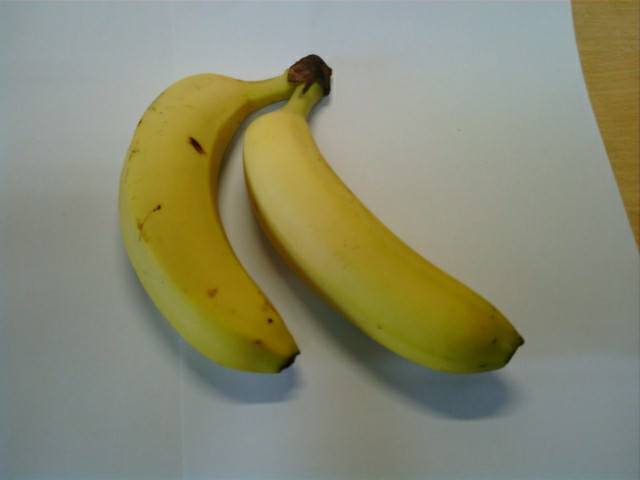fresh_banana: (244, 109, 523, 372)
normal_banana: (118, 74, 295, 370)
